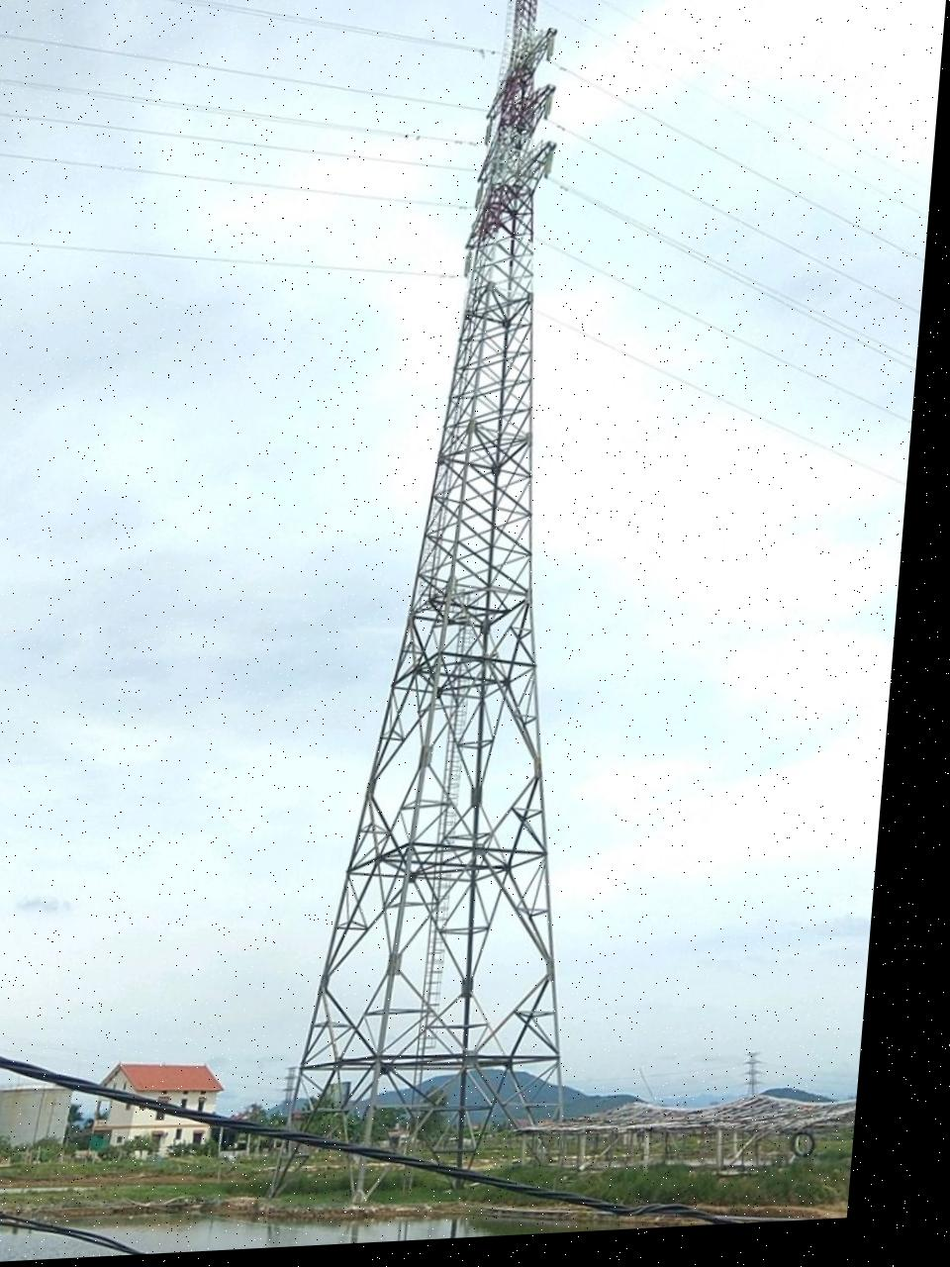tower: (248, 0, 678, 1224)
